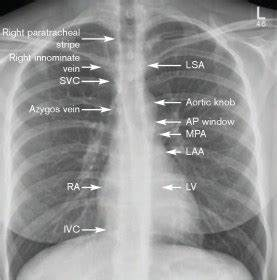telestration: (2, 28, 79, 49), (9, 51, 78, 72), (28, 103, 79, 114), (185, 95, 236, 106), (186, 116, 237, 127), (149, 61, 182, 70), (80, 35, 114, 43), (79, 77, 109, 86), (60, 74, 79, 88), (156, 96, 181, 106), (80, 106, 112, 113), (184, 60, 206, 70), (184, 129, 206, 139), (183, 146, 204, 156), (164, 145, 180, 156), (81, 62, 100, 71), (61, 224, 79, 233), (157, 131, 183, 137), (82, 182, 99, 191), (156, 120, 181, 126), (65, 180, 81, 189), (184, 182, 196, 193), (165, 183, 181, 191), (79, 228, 103, 233)
